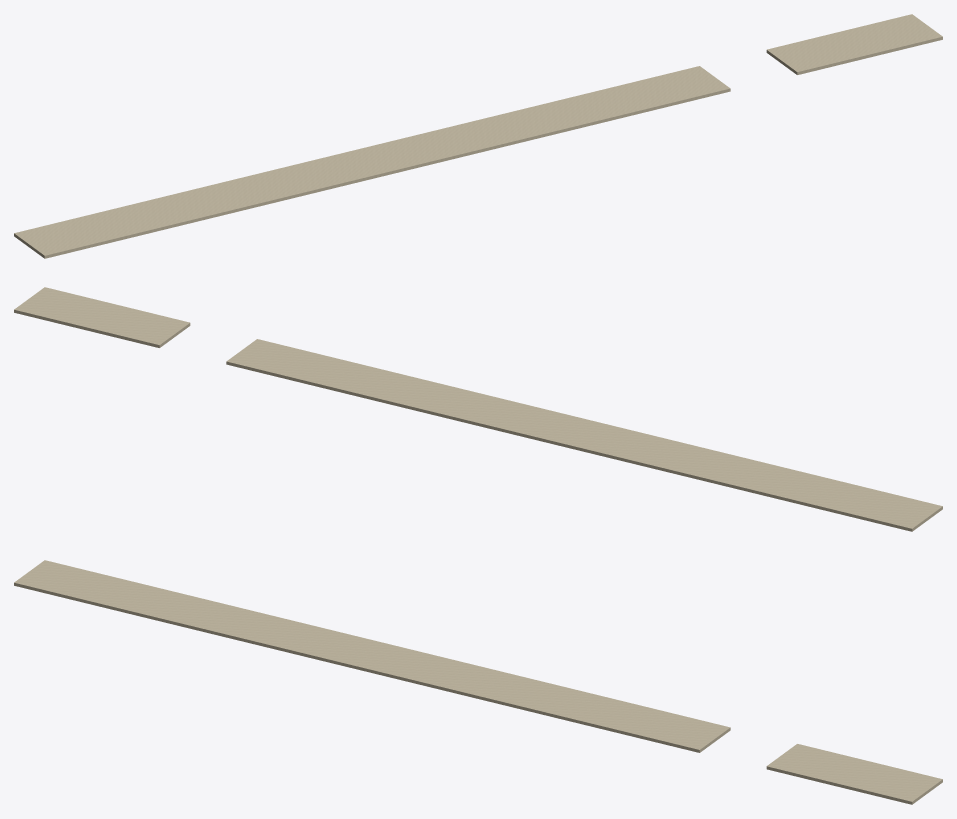
File: LINK_D09_S145__floor.glb
The picture shows the model from 3 angles, top to bottom: view 1: azimuth 30°, elevation 25°; view 2: azimuth 150°, elevation 25°; view 3: azimuth 330°, elevation 25°; orthographic projection.
Visible parts, largest first — view 1: LINK_D09_S145__floor__warm_stone; view 2: LINK_D09_S145__floor__warm_stone; view 3: LINK_D09_S145__floor__warm_stone.
Part boxes in pixels (x1,y1,x2,y2): LINK_D09_S145__floor__warm_stone: (14, 14, 942, 258); LINK_D09_S145__floor__warm_stone: (14, 287, 942, 531); LINK_D09_S145__floor__warm_stone: (14, 560, 942, 804).
Bounding box in the file's own units: 74 × 0.24 × 4.4.
Materials: 1 (1 with a texture image).
